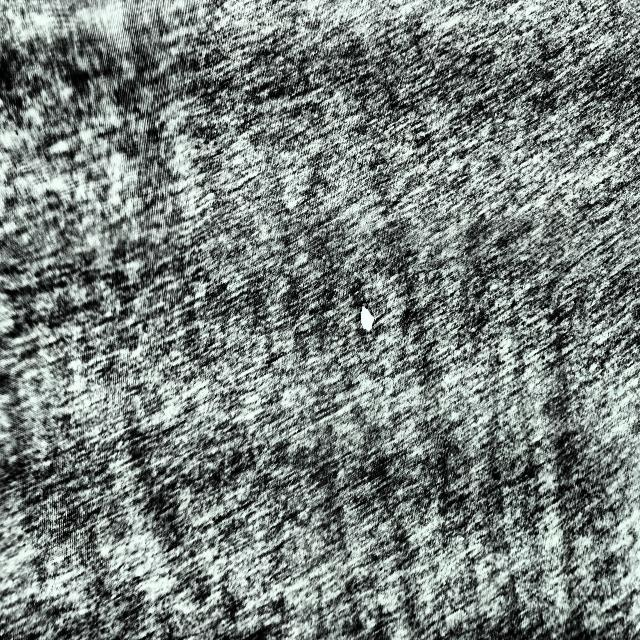Hole: (347, 282, 387, 357)
